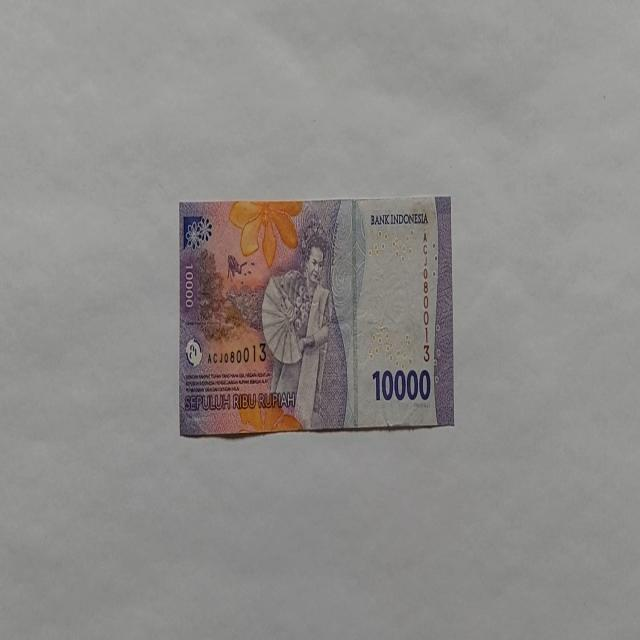sepuluh ribu rupiah: (178, 195, 454, 438)
